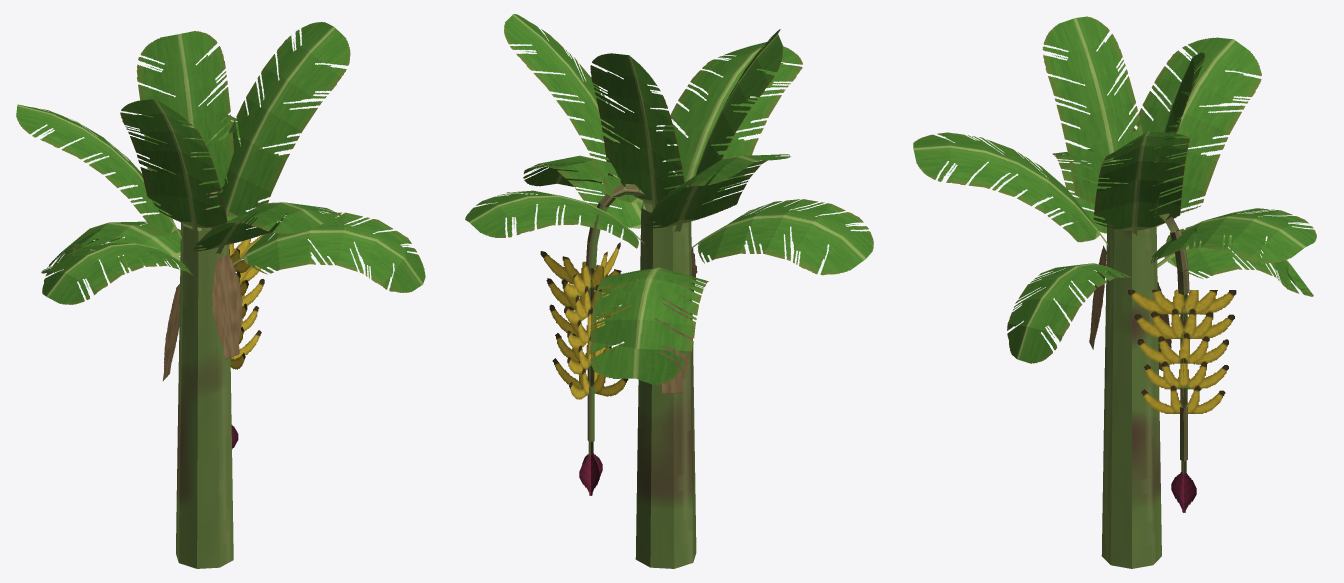
Rendered from banana_6.obj.
3 views of the same model, side by side, from view 1: azimuth 30°, elevation 25°; view 2: azimuth 150°, elevation 25°; view 3: azimuth 270°, elevation 25° (orthographic). The views are drawn at different scales.
Parts seen in each view (by area): view 1: banana; view 2: banana; view 3: banana.
Part boxes in pixels (x1,y1,x2,y2): banana: [16, 22, 425, 568]; banana: [465, 14, 873, 568]; banana: [913, 16, 1316, 568].
Bounding box in the file's own units: 2.37 × 3.13 × 2.35.
